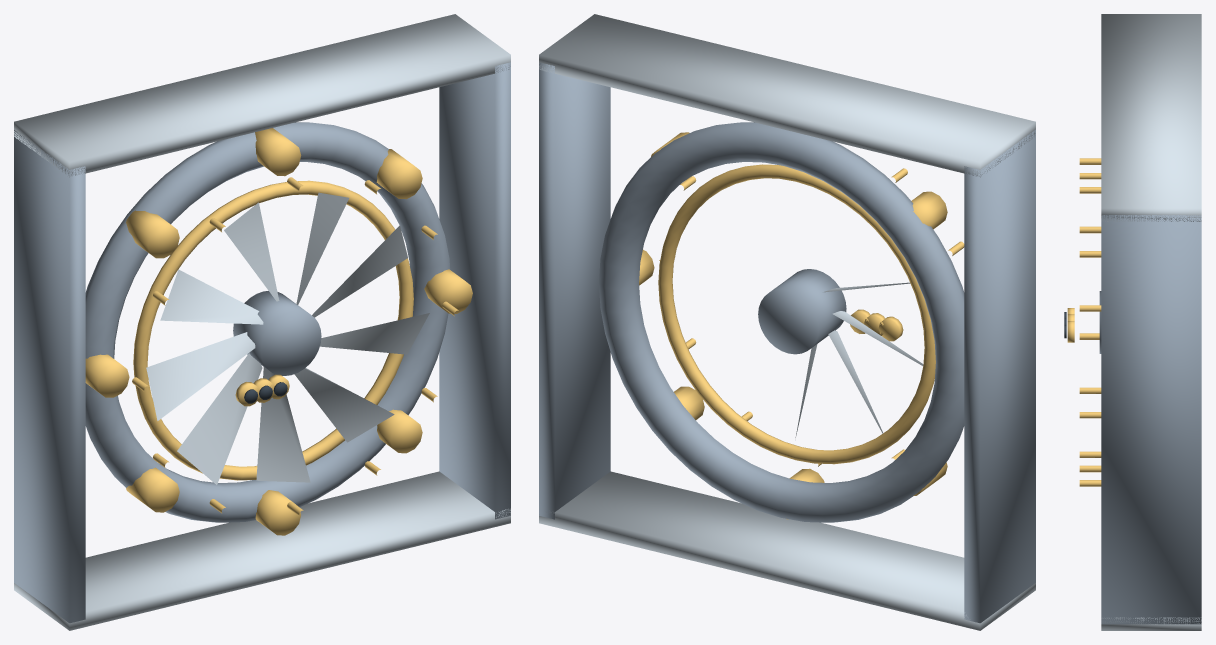
File: 56_L88_VentilationMainCirculationBlower.glb
The picture shows the model from 3 angles, left to right: view 1: azimuth 30°, elevation 25°; view 2: azimuth 150°, elevation 25°; view 3: azimuth 270°, elevation 25°; orthographic projection. The views are drawn at different scales.
Visible parts, largest first — view 1: L87_VentilationMainCirculatio_Part_0000, L87_VentilationMainCirculatio_Part_0005, L87_VentilationMainCirculatio_Part_0004, L87_VentilationMainCirculatio_Part_0001, L87_VentilationMainCirculatio_Part_0003, L87_VentilationMainCirculatio_Part_0002; view 2: L87_VentilationMainCirculatio_Part_0000, L87_VentilationMainCirculatio_Part_0005, L87_VentilationMainCirculatio_Part_0001, L87_VentilationMainCirculatio_Part_0003, L87_VentilationMainCirculatio_Part_0004; view 3: L87_VentilationMainCirculatio_Part_0000, L87_VentilationMainCirculatio_Part_0005, L87_VentilationMainCirculatio_Part_0001.
Part boxes in pixels (x1=…): L87_VentilationMainCirculatio_Part_0000: x1=14, y1=62, x2=510, y2=623; L87_VentilationMainCirculatio_Part_0005: x1=14, y1=14, x2=510, y2=630; L87_VentilationMainCirculatio_Part_0004: x1=146, y1=192, x2=429, y2=484; L87_VentilationMainCirculatio_Part_0001: x1=85, y1=128, x2=472, y2=535; L87_VentilationMainCirculatio_Part_0003: x1=233, y1=291, x2=321, y2=375; L87_VentilationMainCirculatio_Part_0002: x1=377, y1=409, x2=422, y2=453; L87_VentilationMainCirculatio_Part_0000: x1=539, y1=62, x2=1035, y2=623; L87_VentilationMainCirculatio_Part_0005: x1=539, y1=14, x2=1035, y2=630; L87_VentilationMainCirculatio_Part_0001: x1=639, y1=132, x2=964, y2=519; L87_VentilationMainCirculatio_Part_0003: x1=758, y1=269, x2=846, y2=354; L87_VentilationMainCirculatio_Part_0004: x1=795, y1=282, x2=923, y2=437; L87_VentilationMainCirculatio_Part_0000: x1=1101, y1=215, x2=1201, y2=624; L87_VentilationMainCirculatio_Part_0005: x1=1101, y1=14, x2=1201, y2=630; L87_VentilationMainCirculatio_Part_0001: x1=1079, y1=158, x2=1101, y2=486.
Bounding box in the file's own units: 2.75 × 2.79 × 0.822.
